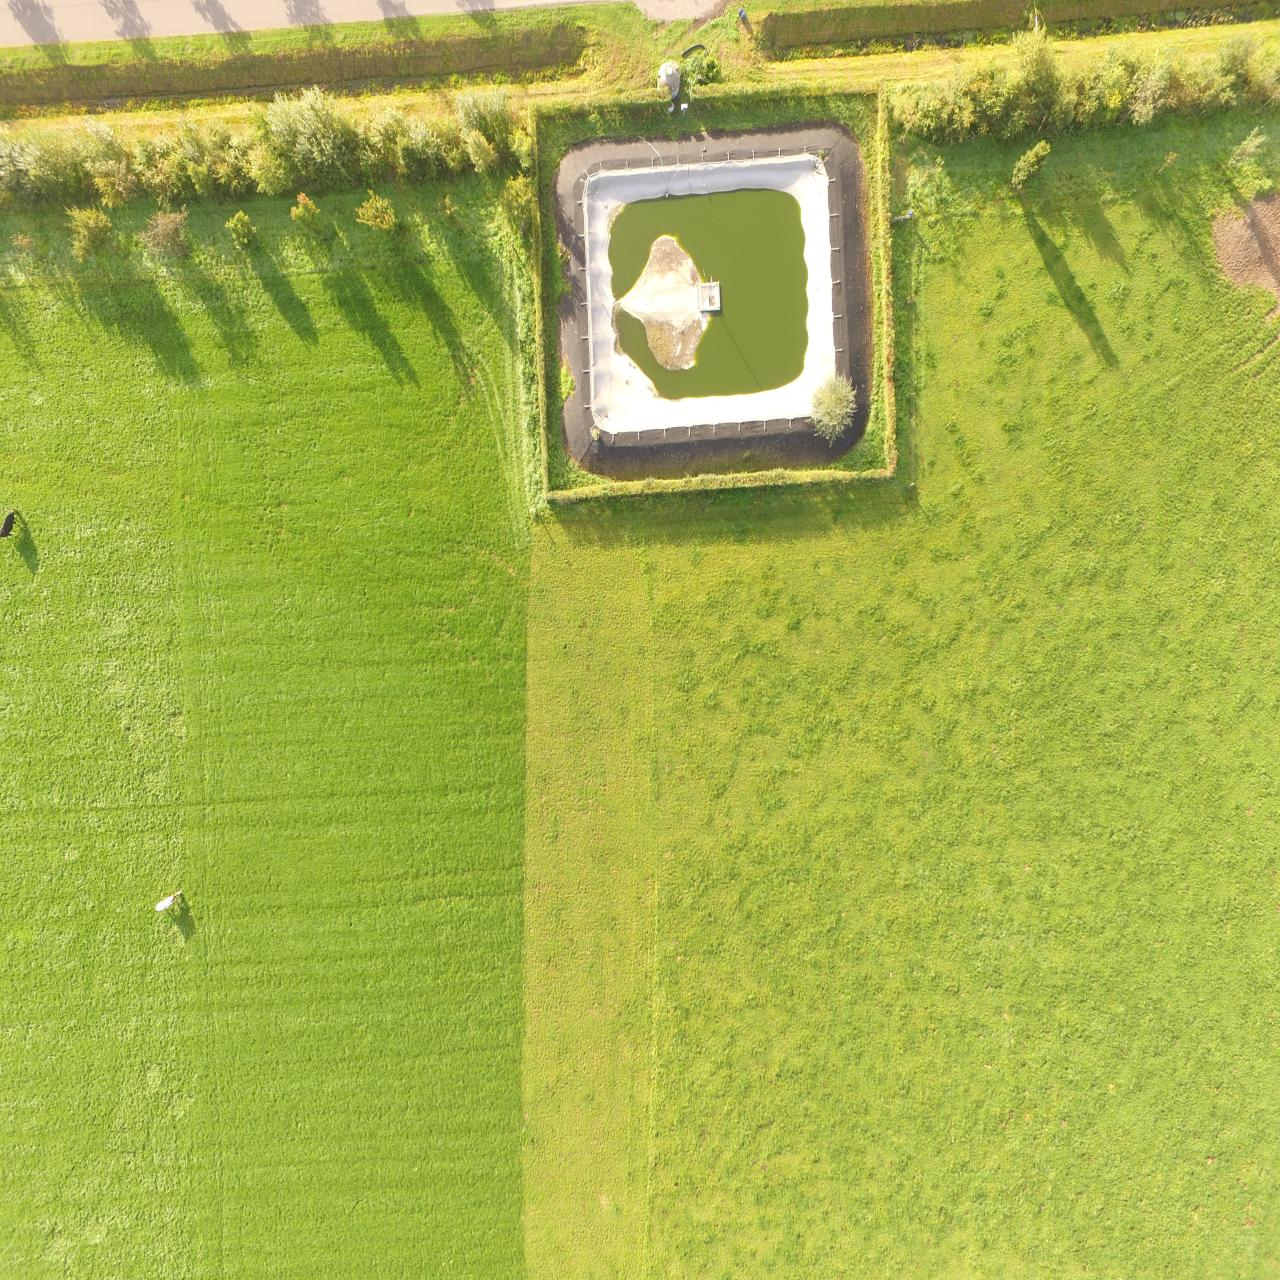cow: (151, 881, 183, 925), (0, 504, 21, 545)
